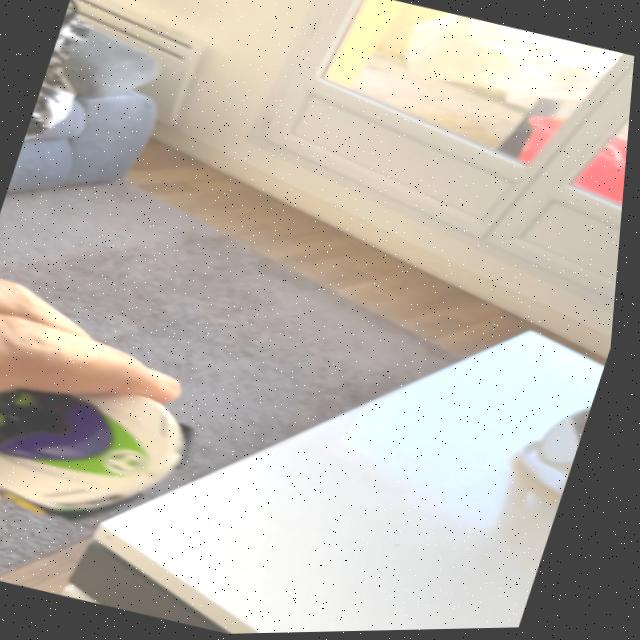yoshi: (0, 334, 242, 567)
